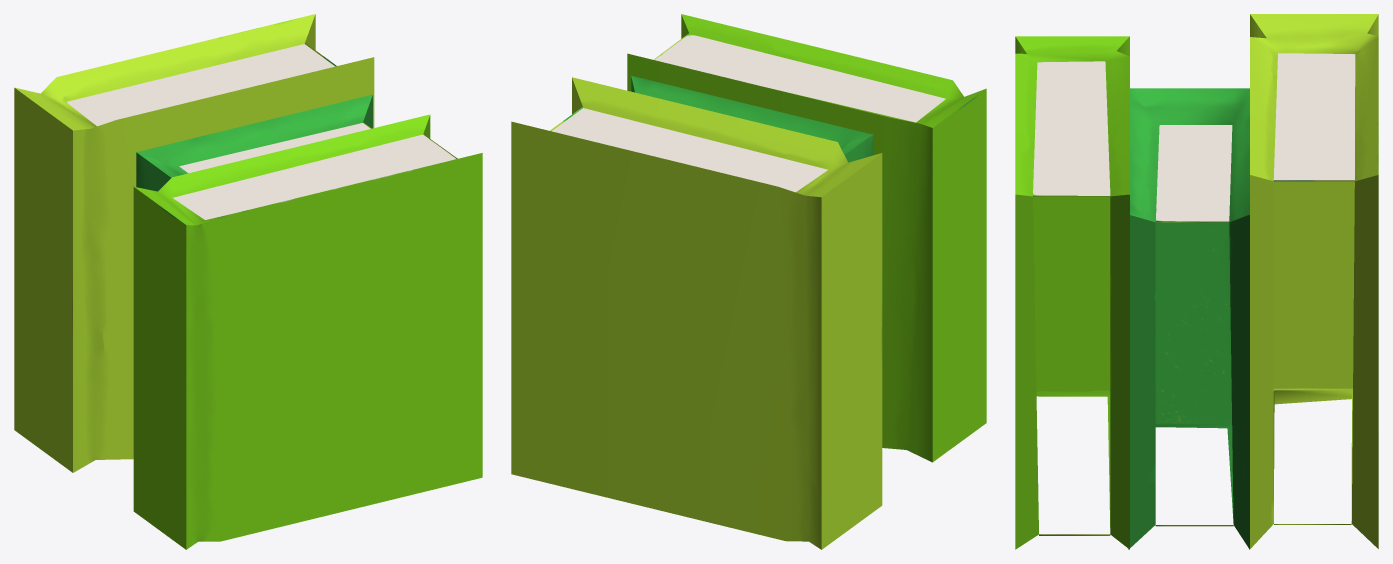
Rendered from BOOKS_GREEN.fbx.
3 views of the same model, side by side, from view 1: azimuth 30°, elevation 25°; view 2: azimuth 150°, elevation 25°; view 3: azimuth 270°, elevation 25° (orthographic). The views are drawn at different scales.
Visible parts, largest first — view 1: books_finished; view 2: books_finished; view 3: books_finished.
Part boxes in pixels (x1,y1,x2,y2): books_finished: (14,14,482,549); books_finished: (511,14,986,549); books_finished: (1015,14,1378,549).
Size of the model in its own units: 61.96 by 67.29 by 58.95.
